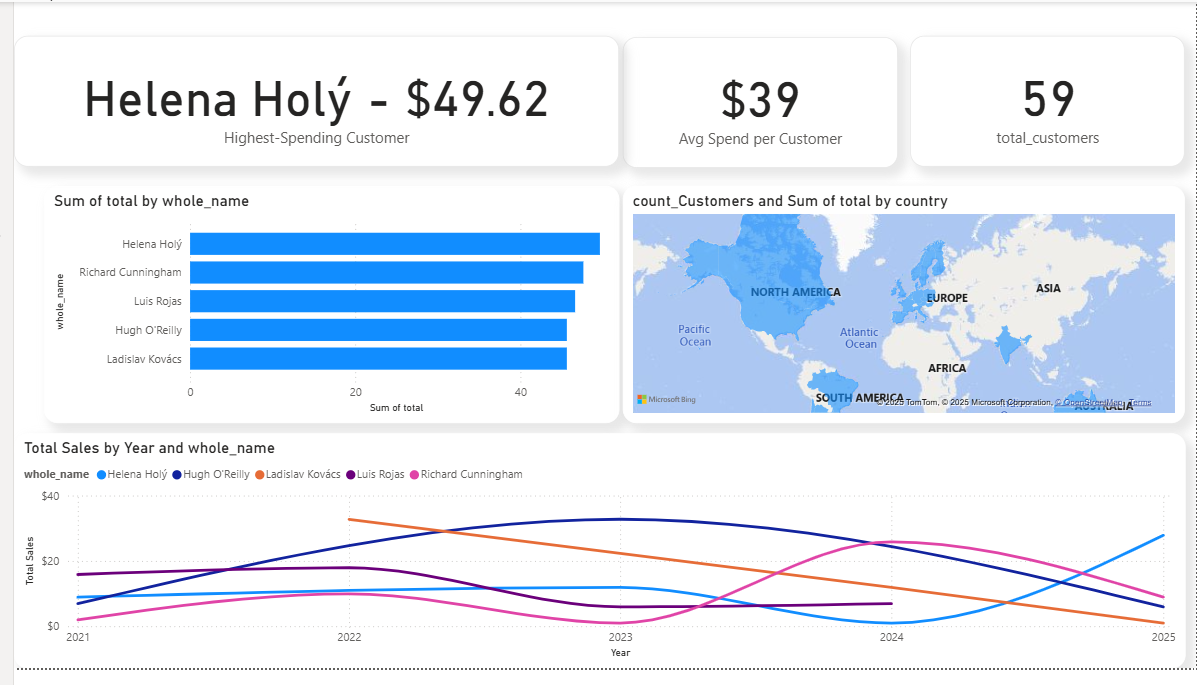

Layout of this report page (visuals, bound fields, positions):
{"tool":"powerbi","page":{"name":"customer_insights","canvas":[1280,720],"ordinal":2},"visuals":[{"type":"barChart","fields":{"Category":["customer.whole_name"],"Y":["invoice.total"]},"box":[33,199.3,622.4,256.8],"z":0},{"type":"card","fields":{"Values":["_measures.Avg Spend per Customer"]},"box":[658.4,37.9,297.4,142],"z":1000},{"type":"card","fields":{"Values":["customer.customer_id"]},"box":[969.7,36.7,297.1,141.8],"z":2000},{"type":"card","fields":{"Values":["_measures.Highest-Spending Customer"]},"box":[0,36.5,654.3,142],"z":3000},{"type":"filledMap","fields":{"Category":["customer.country"]},"box":[658.4,198.7,608.4,256.9],"z":4000},{"type":"lineChart","fields":{"Category":["invoice.invoice_date.Variation.Date Hierarchy.Year","invoice.invoice_date.Variation.Date Hierarchy.Quarter","invoice.invoice_date.Variation.Date Hierarchy.Month"],"Y":["_measures.Total Sales"],"Series":["customer.whole_name"]},"box":[0,465.9,1266.9,254.3],"z":5000}]}

Visuals, with their boxes in screenshot pixels (x1, y1, x2, y2), scaled from the page's 1280x720 canvas onto the 1197x685 screenshot:
barChart - customer.whole_name x invoice.total: box=[31, 190, 613, 434]
card - _measures.Avg Spend per Customer: box=[616, 36, 894, 171]
card - customer.customer_id: box=[907, 35, 1185, 170]
card - _measures.Highest-Spending Customer: box=[0, 35, 612, 170]
filledMap - customer.country: box=[616, 189, 1185, 433]
lineChart - invoice.invoice_date.Variation.Date Hierarchy.Year x invoice.invoice_date.Variation.Date Hierarchy.Quarter: box=[0, 443, 1185, 684]
